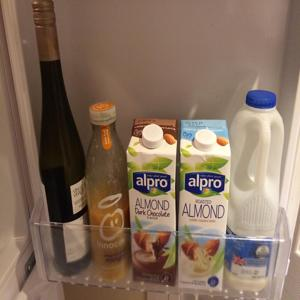cardboard: (125, 109, 178, 288), (178, 113, 231, 291)
glass: (28, 3, 88, 274), (82, 97, 130, 278)
plastic: (139, 121, 166, 153), (198, 132, 223, 151)
plastic bottle: (226, 88, 278, 292)
